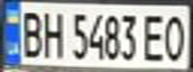3: (118, 10, 142, 61)
4: (84, 9, 106, 61)
5: (66, 8, 90, 60)
8: (103, 10, 124, 61)
B: (15, 6, 45, 58)
E: (139, 11, 169, 62)
H: (36, 7, 66, 60)
O: (160, 10, 190, 62)
